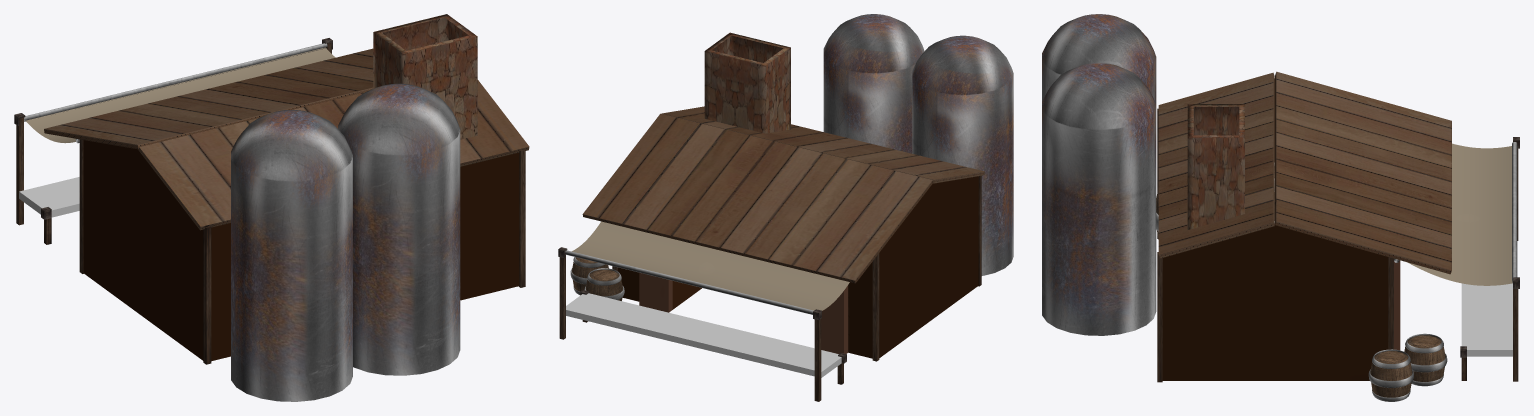
The model's file is Build.fbx.
3 renders of one model, left to right at view 1: azimuth 30°, elevation 25°; view 2: azimuth 150°, elevation 25°; view 3: azimuth 270°, elevation 25°, orthographic. The views are drawn at different scales.
Visible parts, largest first — view 1: Cylinder, Cylinder.002, Cube, Cube.001, Cube.003, NurbsPath.001, Cube.004, Cylinder.001, Cube.005; view 2: Cube.001, Cube, Cylinder, Cylinder.002, NurbsPath.001, Cube.003, Cube.005, Cube.004, Cylinder.001, Cylinder.004, Cylinder.006; view 3: Cube.001, Cube, Cylinder.002, NurbsPath.001, Cube.003, Cylinder, Cube.005, Cube.004, Cylinder.006, Cylinder.004, Cylinder.001.
Part boxes in pixels (x1,y1,x2,y2): Cylinder: [231, 110, 352, 401]; Cylinder.002: [338, 83, 460, 375]; Cube: [83, 140, 519, 361]; Cube.001: [44, 48, 529, 230]; Cube.003: [373, 14, 477, 139]; NurbsPath.001: [26, 47, 335, 143]; Cube.004: [16, 42, 525, 364]; Cylinder.001: [14, 38, 332, 219]; Cube.005: [19, 177, 79, 217]; Cube.001: [582, 106, 984, 283]; Cube: [617, 176, 978, 358]; Cylinder: [912, 35, 1013, 275]; Cylinder.002: [823, 14, 924, 153]; NurbsPath.001: [572, 221, 849, 310]; Cube.003: [704, 32, 790, 133]; Cube.005: [566, 293, 841, 377]; Cube.004: [559, 175, 981, 401]; Cylinder.001: [558, 247, 846, 363]; Cylinder.004: [584, 268, 624, 300]; Cylinder.006: [570, 257, 609, 294]; Cube.001: [1158, 71, 1451, 274]; Cube: [1162, 78, 1400, 380]; Cylinder.002: [1042, 63, 1156, 335]; NurbsPath.001: [1407, 143, 1512, 285]; Cube.003: [1187, 104, 1244, 229]; Cylinder: [1042, 14, 1156, 104]; Cube.005: [1461, 283, 1512, 356]; Cube.004: [1157, 108, 1518, 382]; Cylinder.006: [1368, 349, 1413, 401]; Cylinder.004: [1404, 333, 1447, 386]; Cylinder.001: [1394, 137, 1519, 357].
Bounding box in the file's own units: 1564 × 1030 × 1860.
